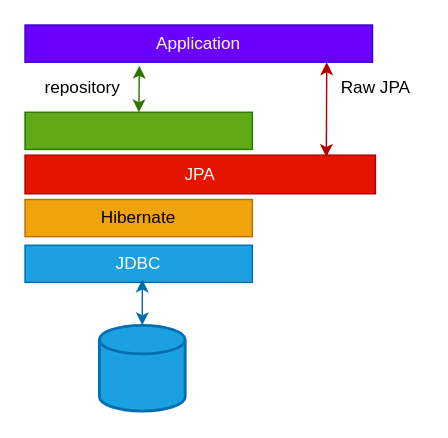
The diagram is 448 pixels wide and 438 high, and some of its shapes have lost their labels. The centre of each missing label's shape, as x and y in pixels:
Database: (141,367)
Spring Data JPA: (138,130)
